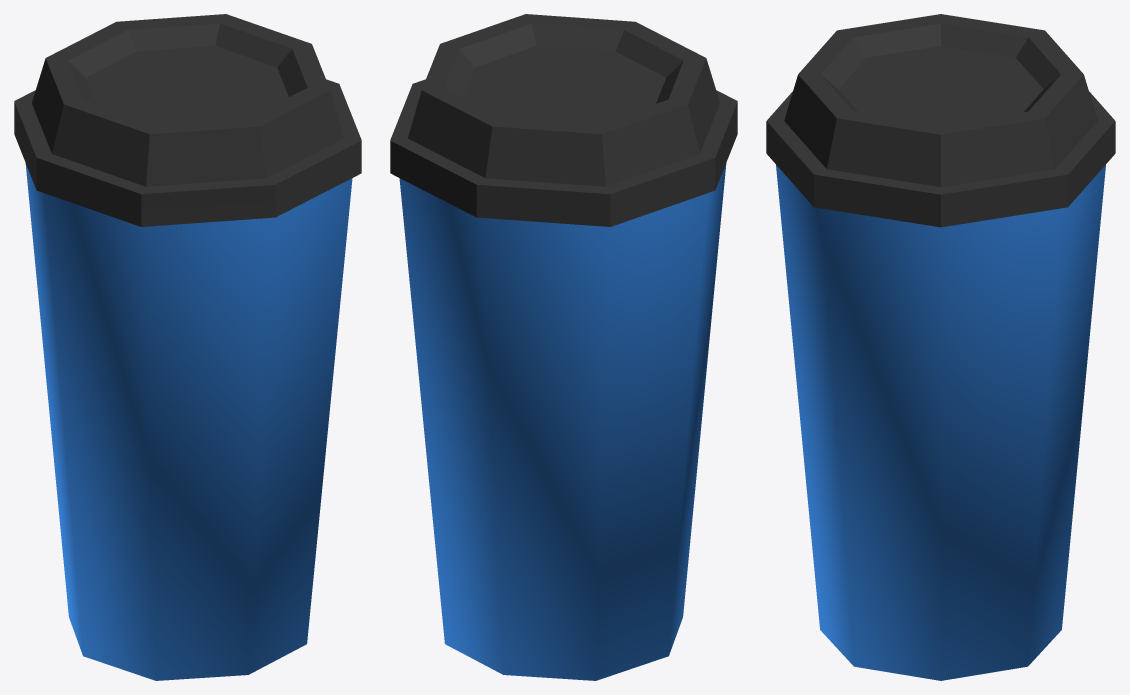
File: FancyCoffee.glb
3 views of the same model, side by side, from view 1: azimuth 30°, elevation 25°; view 2: azimuth 150°, elevation 25°; view 3: azimuth 270°, elevation 25° (orthographic).
Visible parts, largest first — view 1: Cup, CupTop; view 2: Cup, CupTop; view 3: Cup, CupTop.
Part boxes in pixels (x1,y1,x2,y2): Cup: [25, 163, 352, 680]; CupTop: [14, 14, 361, 226]; Cup: [399, 163, 726, 680]; CupTop: [390, 14, 737, 226]; Cup: [776, 165, 1105, 680]; CupTop: [766, 14, 1115, 227].
Size of the model in its own units: 1.21 by 2.13 by 1.21.
